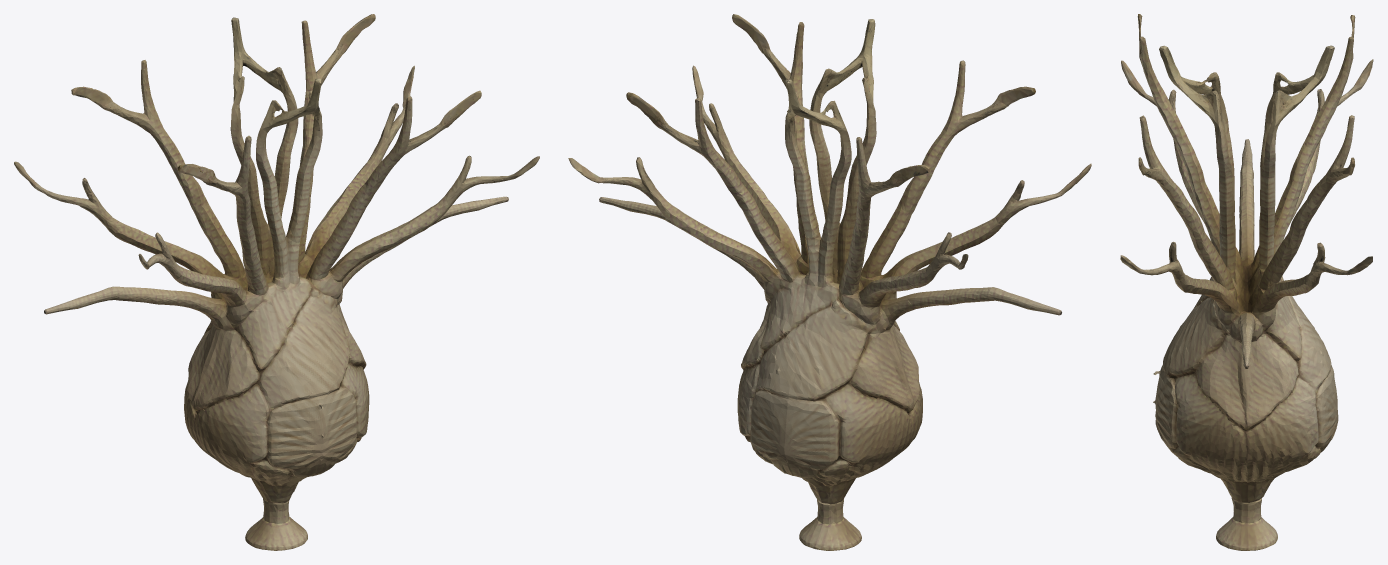
The picture shows the model from 3 angles, left to right: view 1: azimuth 30°, elevation 25°; view 2: azimuth 150°, elevation 25°; view 3: azimuth 270°, elevation 25°; orthographic projection.
Parts seen in each view (by area): view 1: world; view 2: world; view 3: world.
Part boxes in pixels (box(x1,y1,x2,y2)): world: box(14, 14, 539, 550); world: box(568, 14, 1091, 550); world: box(1120, 14, 1373, 550).
Bounding box in the file's own units: 0.9934 × 1 × 0.467.
Materials: 1 (1 with a texture image).
